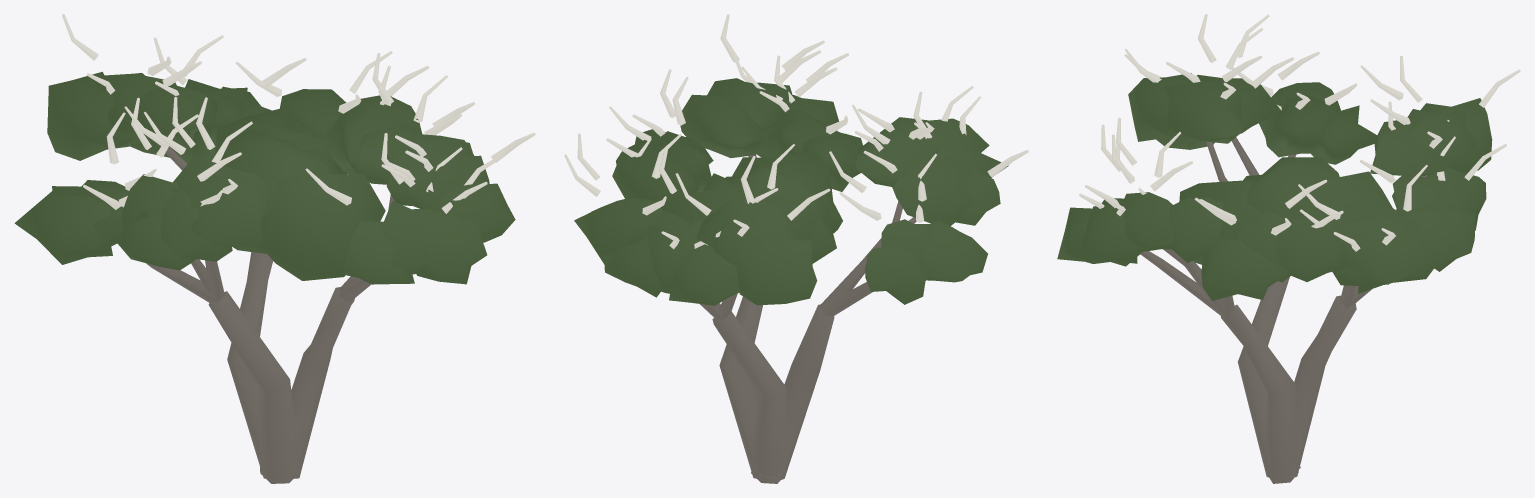
File: Blender_MountainMahogany_1.glb
3 renders of one model, left to right at view 1: azimuth 30°, elevation 25°; view 2: azimuth 150°, elevation 25°; view 3: azimuth 270°, elevation 25°, orthographic. The views are drawn at different scales.
Parts seen in each view (by area): view 1: Blender_MountainMahogany_1; view 2: Blender_MountainMahogany_1; view 3: Blender_MountainMahogany_1.
Boxes of the visible parts, x1,y1,x2,y2 form: Blender_MountainMahogany_1: [14, 14, 535, 483]; Blender_MountainMahogany_1: [564, 14, 1028, 483]; Blender_MountainMahogany_1: [1057, 14, 1520, 483].
Bounding box in the file's own units: 4.74 × 4.55 × 4.91.
